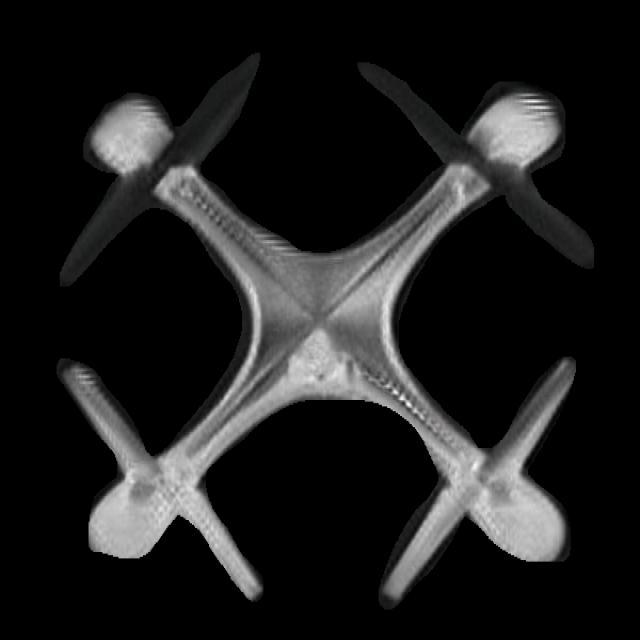drone: (55, 51, 626, 594)
